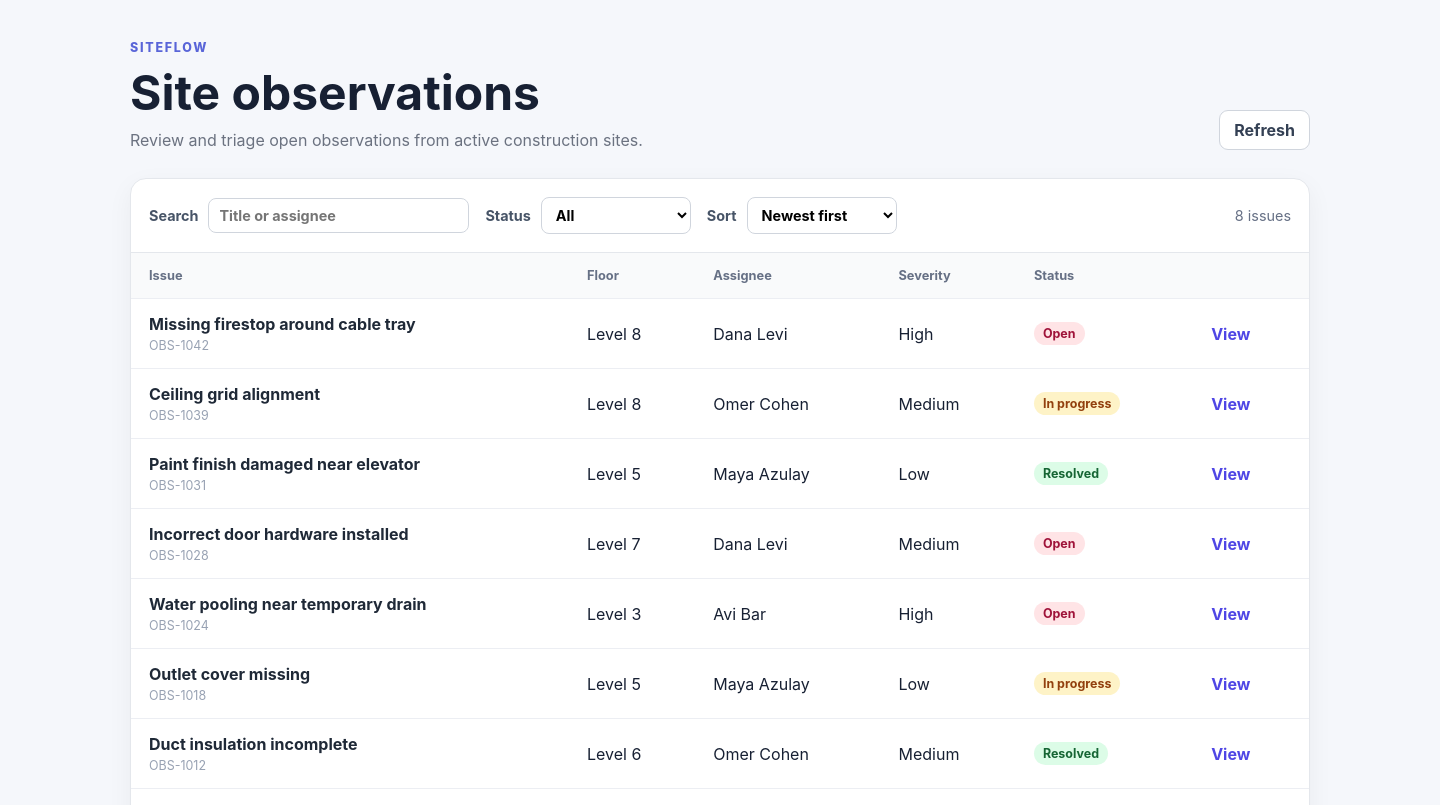
Test case: App issue details › aborts a pending detail request when the panel closes
The width and height of the screenshot is (1440, 805).
Click the button "View" in the row of "Missing firestop around cable tray". click: (1231, 334)
box: [1205, 322, 1256, 344]
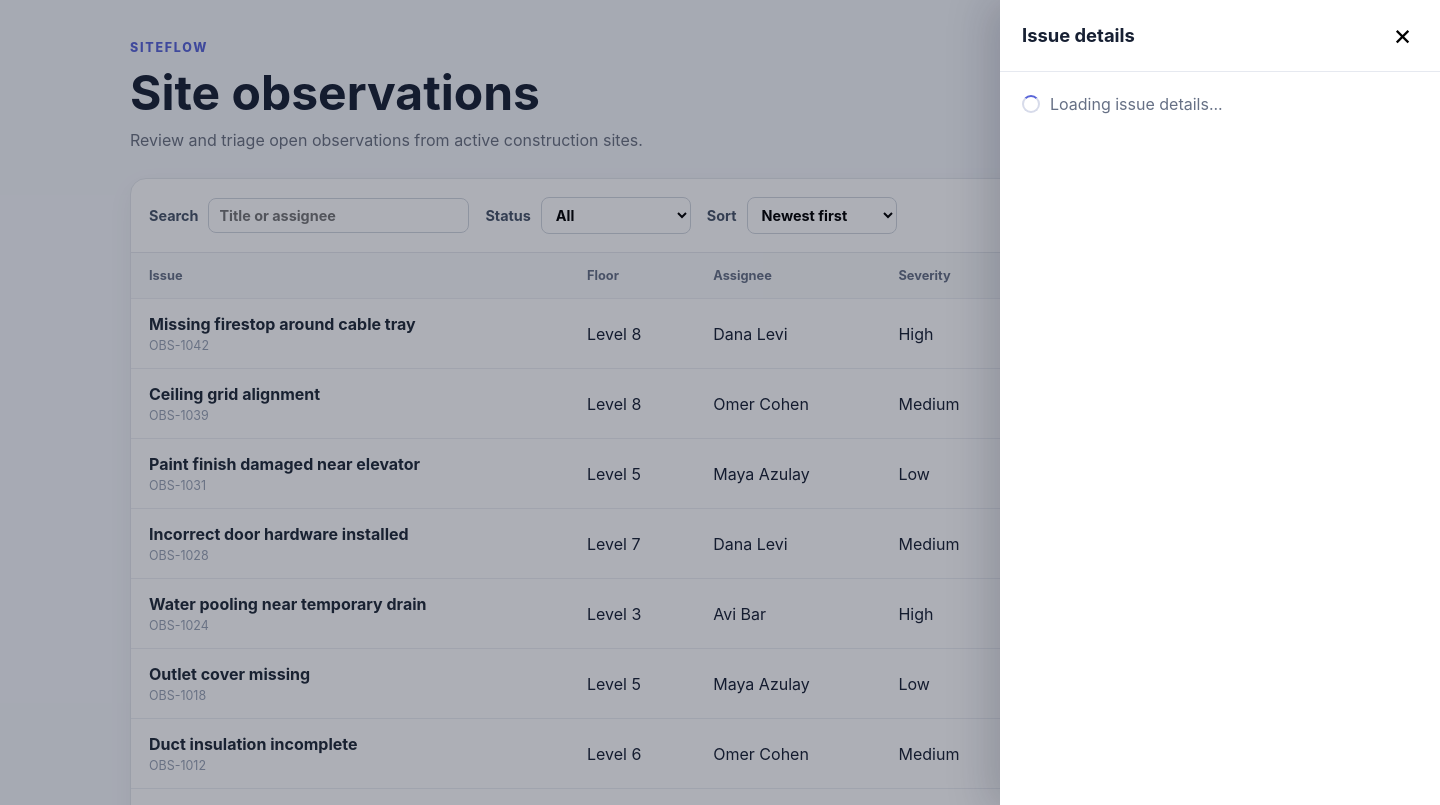
Check: the message reads "Loading issue details...", box [1050, 94, 1223, 114]
Click the button named "Close panel". click: (1402, 35)
box: [1387, 20, 1418, 51]
(page scrolled)
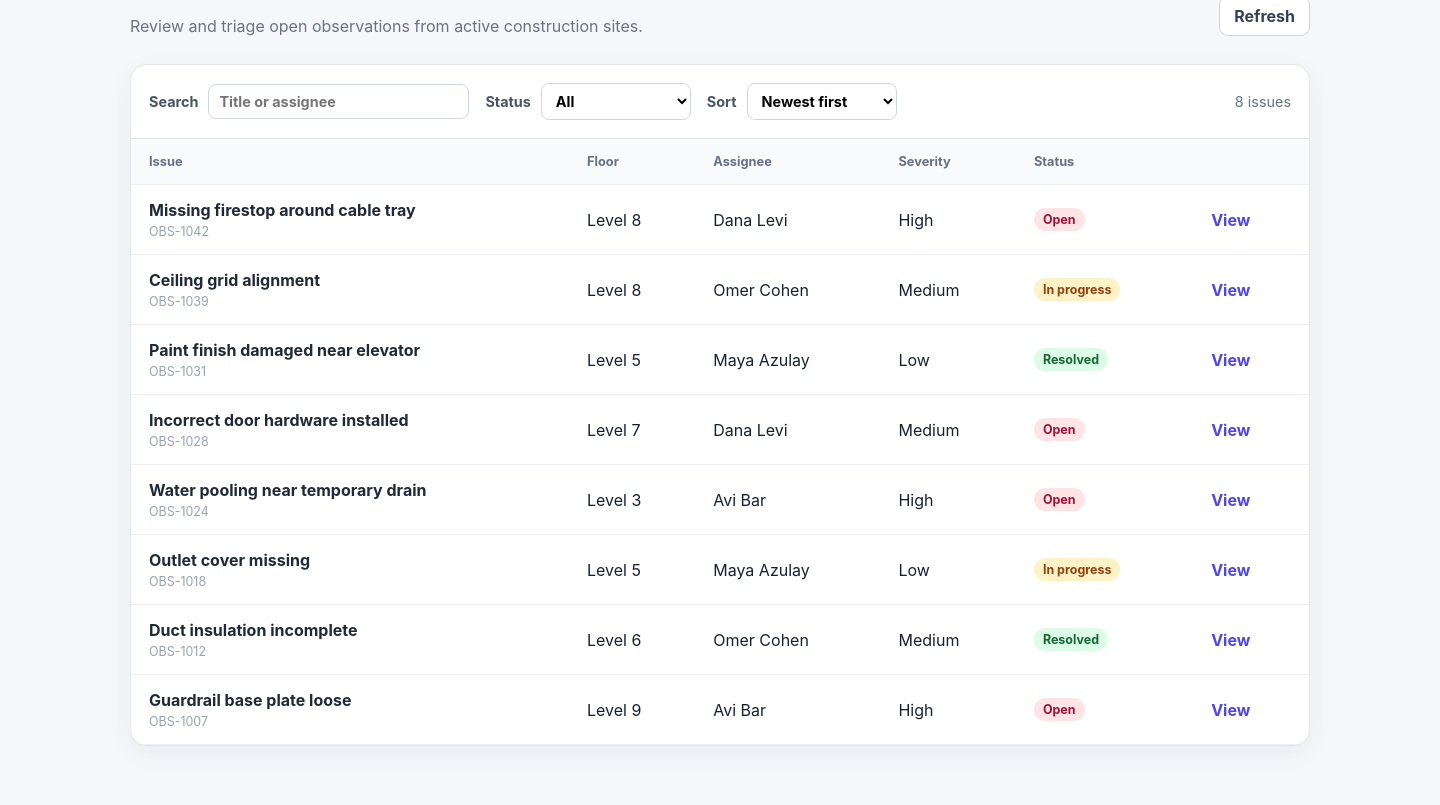
Check: the heading "Issue details" is gone
